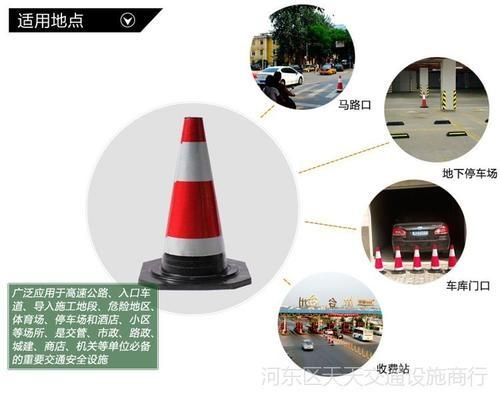cone_barrel: (145, 117, 238, 285), (410, 244, 423, 270), (391, 243, 403, 269), (372, 244, 384, 270), (428, 243, 440, 269), (446, 243, 456, 268), (334, 74, 343, 92), (419, 91, 427, 106)
